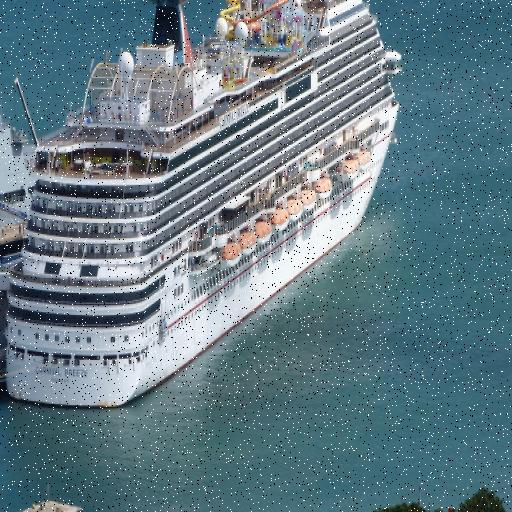cruises: (1, 1, 408, 408)
